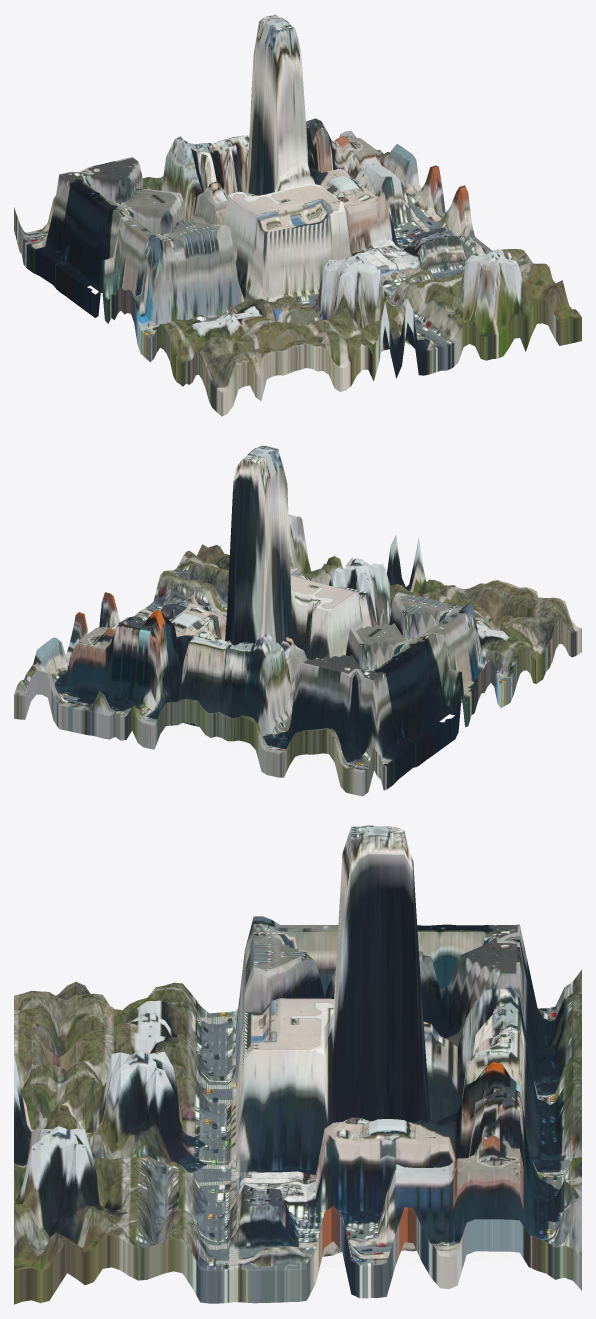
The picture shows the model from 3 angles, top to bottom: view 1: azimuth 30°, elevation 25°; view 2: azimuth 150°, elevation 25°; view 3: azimuth 270°, elevation 25°; orthographic projection. The views are drawn at different scales.
Parts seen in each view (by area): view 1: surface, ground; view 2: surface, ground; view 3: surface, ground.
Boxes of the visible parts, <box> form: surface: <box>14,14,581,416</box>; ground: <box>14,235,546,389</box>; surface: <box>14,445,581,796</box>; ground: <box>32,644,560,775</box>; surface: <box>14,825,581,1304</box>; ground: <box>101,1250,523,1272</box>.
Size of the model in its own units: 256 by 179 by 256.
Materials: 2 (1 with a texture image).
